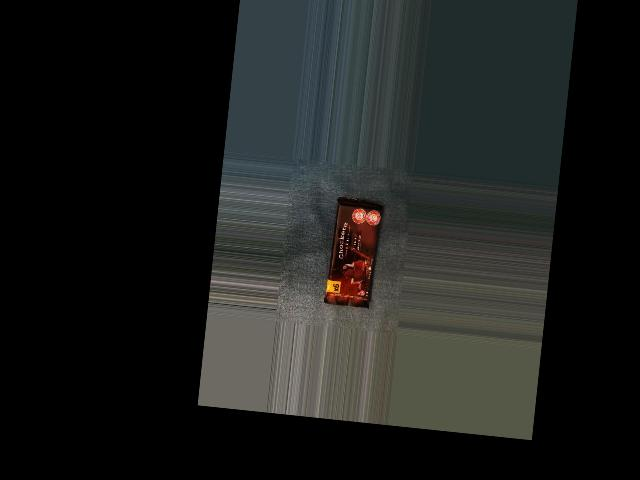chocolate: (315, 196, 390, 310)
